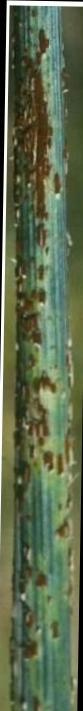Wheat: (11, 10, 66, 707)
